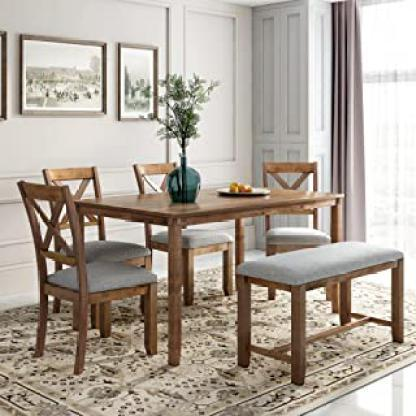chair: (12, 180, 160, 369), (230, 249, 416, 383), (254, 157, 336, 300), (40, 153, 132, 263), (134, 162, 226, 253)
door: (255, 4, 311, 249)
table: (77, 190, 346, 364)
